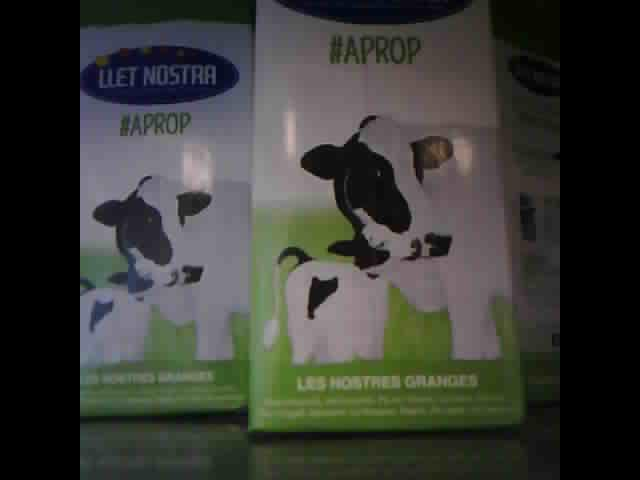leche: (248, 2, 515, 439), (81, 3, 256, 416), (498, 22, 560, 404)
